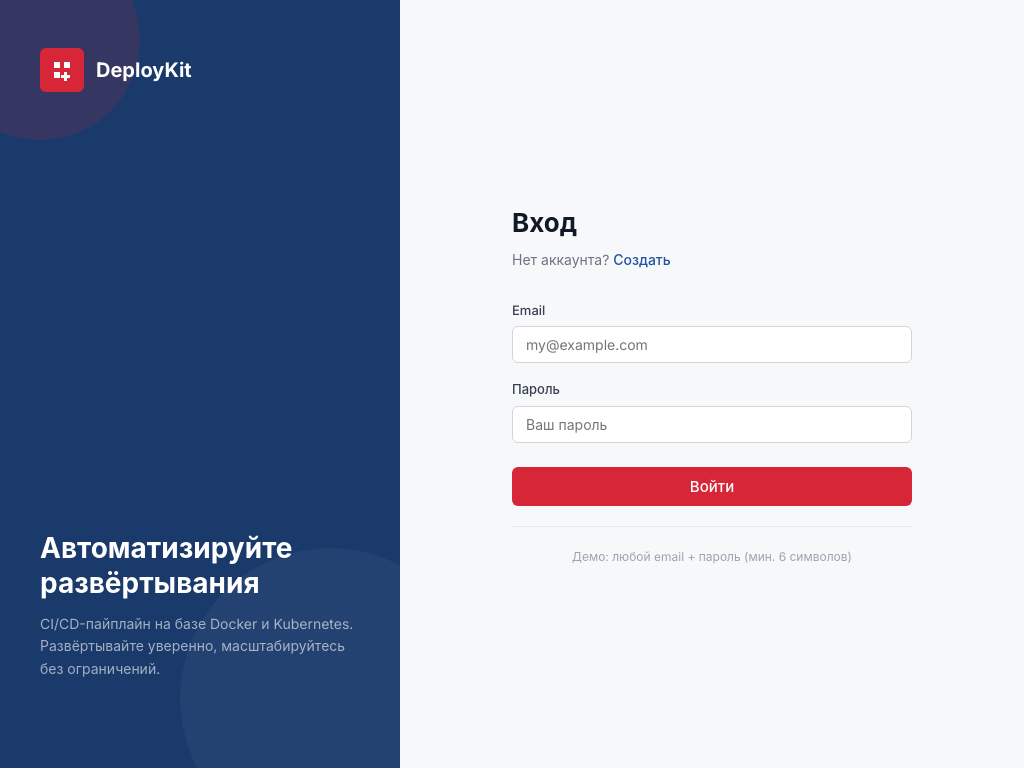
Test case: App › переключается на страницу регистрации
Click the link "Создать".
click(642, 260)  # box [613,251,671,268]
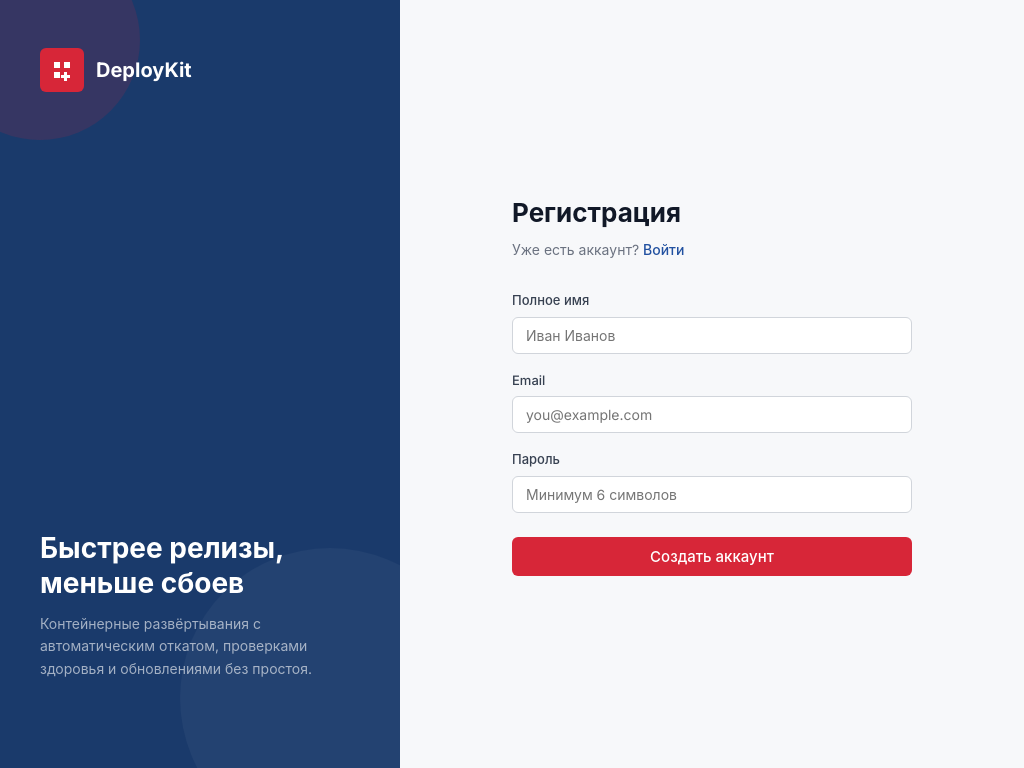
Expected: the heading "Регистрация" is shown, [512,197,681,228]
